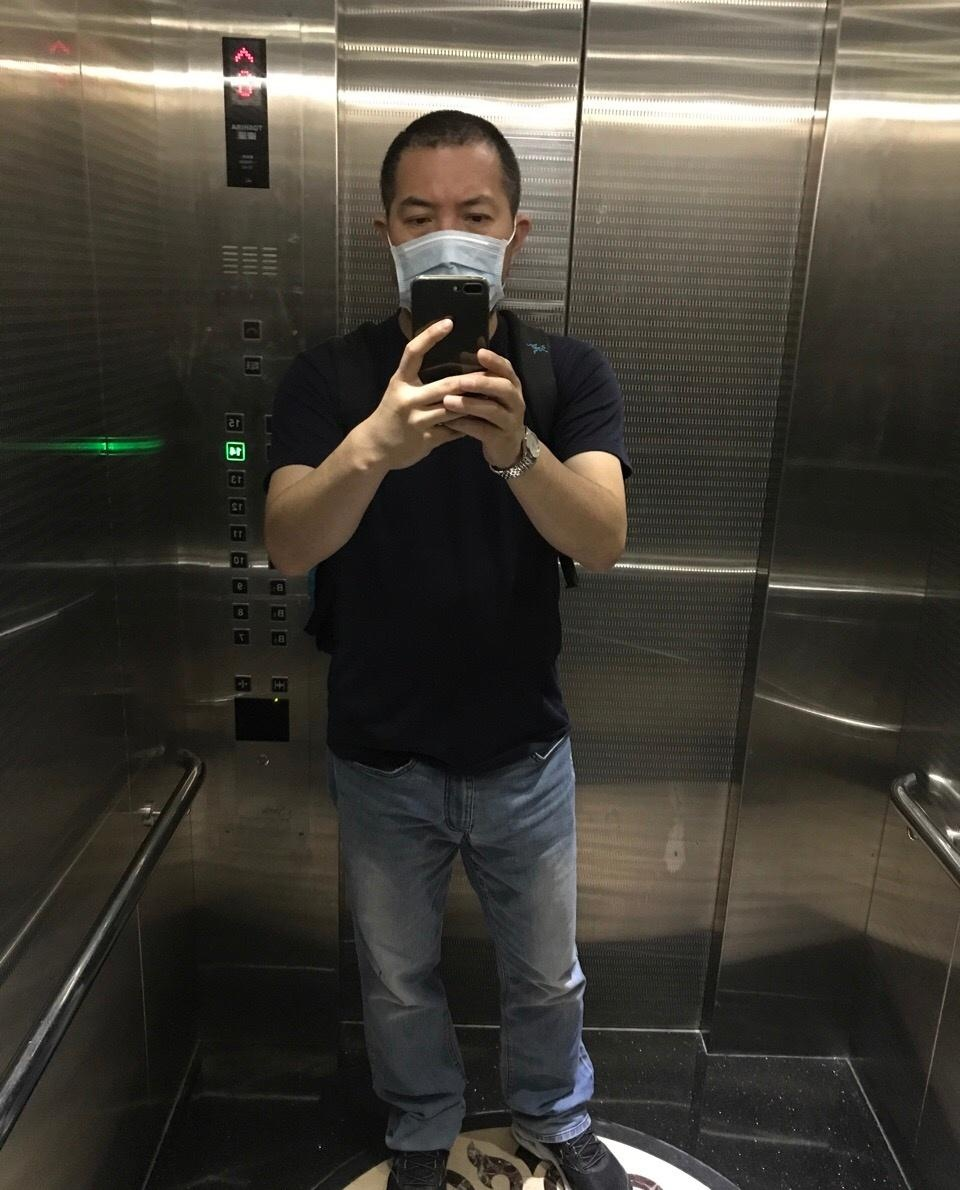Mask: (382, 189, 518, 324)
